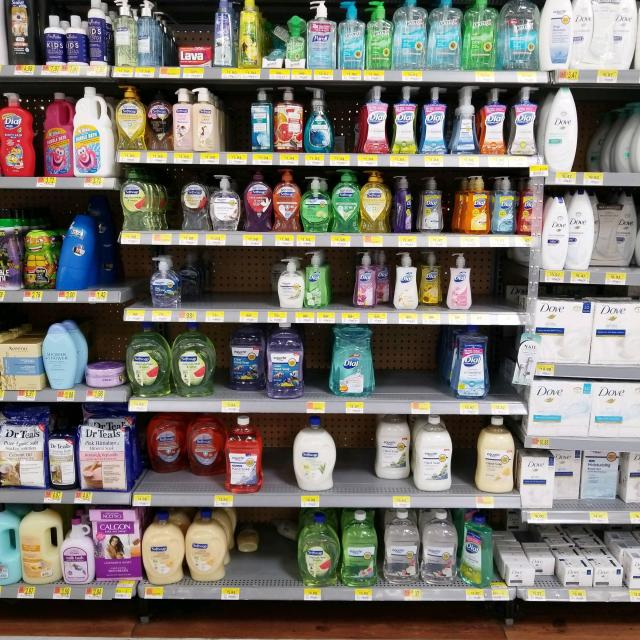empty: (377, 330, 448, 397), (235, 512, 297, 586), (203, 250, 268, 308), (339, 419, 375, 491), (263, 415, 292, 489), (473, 253, 506, 311), (580, 91, 603, 170), (305, 327, 328, 399), (224, 91, 250, 153), (330, 249, 352, 311), (335, 85, 355, 153)
